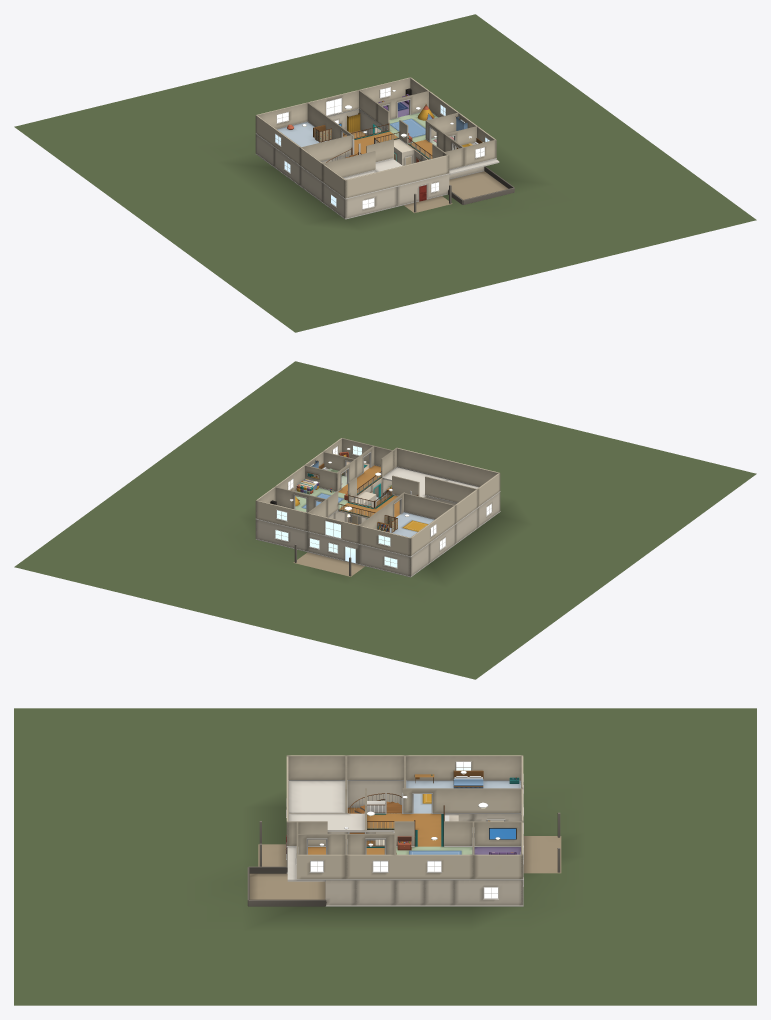
Rendered from house-CPmJLDti.glb.
The picture shows the model from 3 angles, top to bottom: view 1: azimuth 30°, elevation 25°; view 2: azimuth 150°, elevation 25°; view 3: azimuth 270°, elevation 25°; orthographic projection. The views are drawn at different scales.
Visible parts, largest first — view 1: ext, shell2, shell1, props2; view 2: ext, shell2, shell1, props2; view 3: ext, shell2, shell1, props2.
Boxes of the visible parts, <box> form: ext: <box>14,14,756,332</box>; shell2: <box>255,77,496,199</box>; shell1: <box>255,109,499,219</box>; props2: <box>287,88,483,148</box>; ext: <box>14,361,756,679</box>; shell2: <box>255,438,500,557</box>; shell1: <box>255,467,500,577</box>; props2: <box>270,451,427,532</box>; ext: <box>14,708,756,1005</box>; shell2: <box>286,755,523,880</box>; shell1: <box>285,781,523,906</box>; props2: <box>396,770,519,854</box>.
Size of the model in its own units: 72 by 6.02 by 76.
